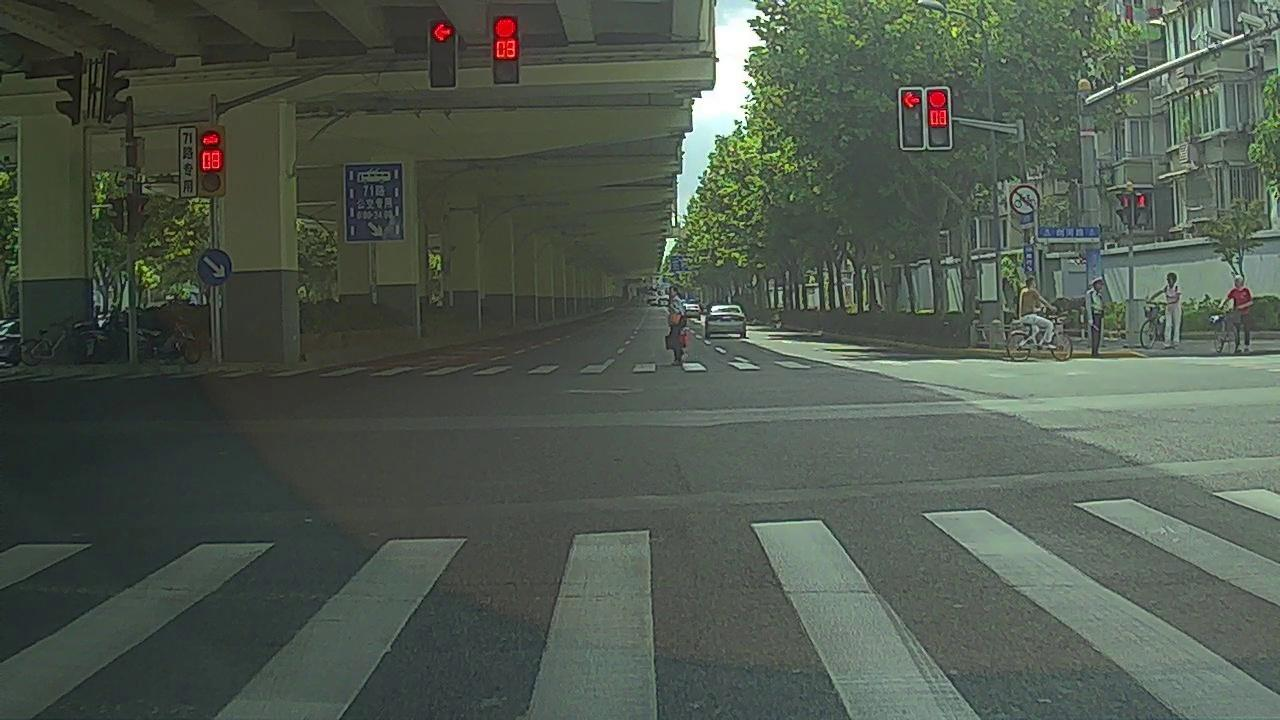traffic_light: (493, 11, 521, 83), (432, 18, 459, 89), (900, 85, 924, 148), (924, 85, 948, 147)
